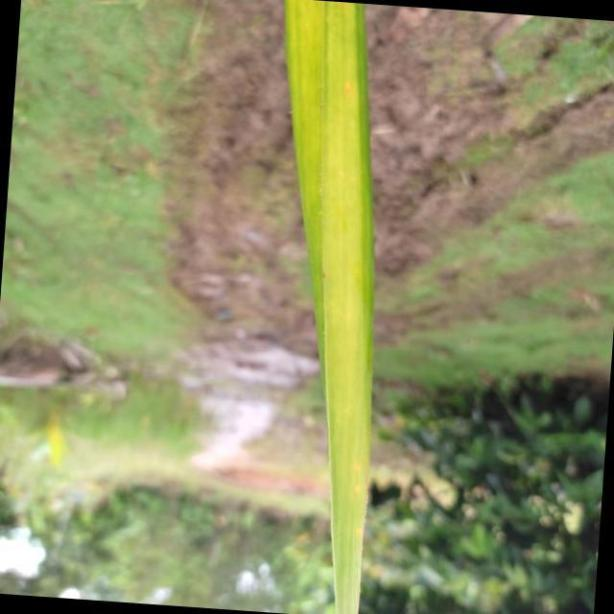nitrogen: (276, 0, 373, 614)
